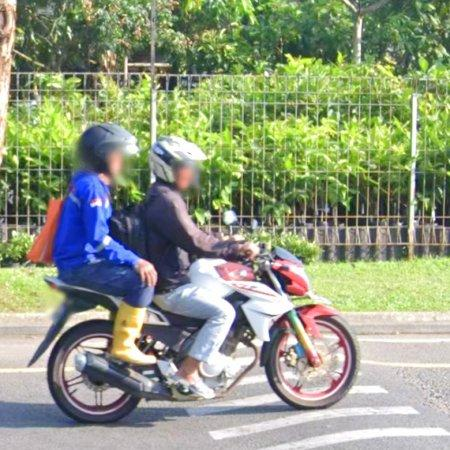motorcycles: (191, 249, 360, 410), (47, 304, 203, 424), (28, 278, 120, 366)
